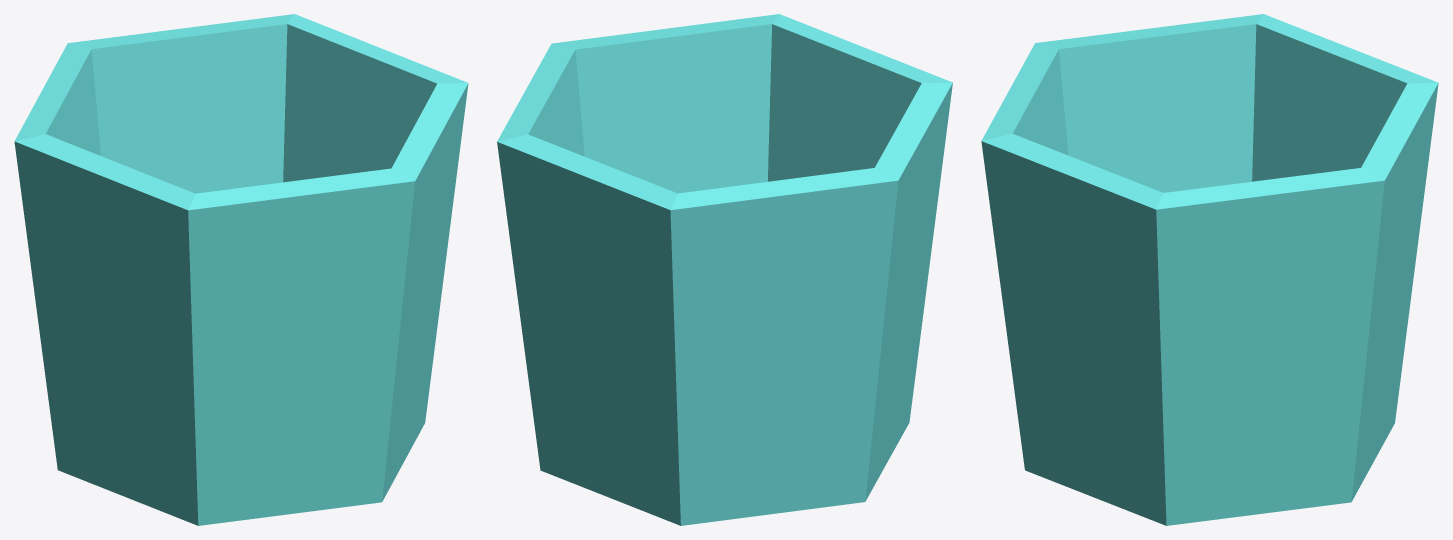
Rendered from Copo.fbx.
The picture shows the model from 3 angles, left to right: view 1: azimuth 30°, elevation 25°; view 2: azimuth 150°, elevation 25°; view 3: azimuth 270°, elevation 25°; orthographic projection.
Visible parts, largest first — view 1: Copo; view 2: Copo; view 3: Copo.
Part boxes in pixels (x1,y1,x2,y2): Copo: (14, 14, 468, 525); Copo: (497, 14, 952, 525); Copo: (981, 14, 1438, 525).
Size of the model in its own units: 121 by 97.54 by 120.
